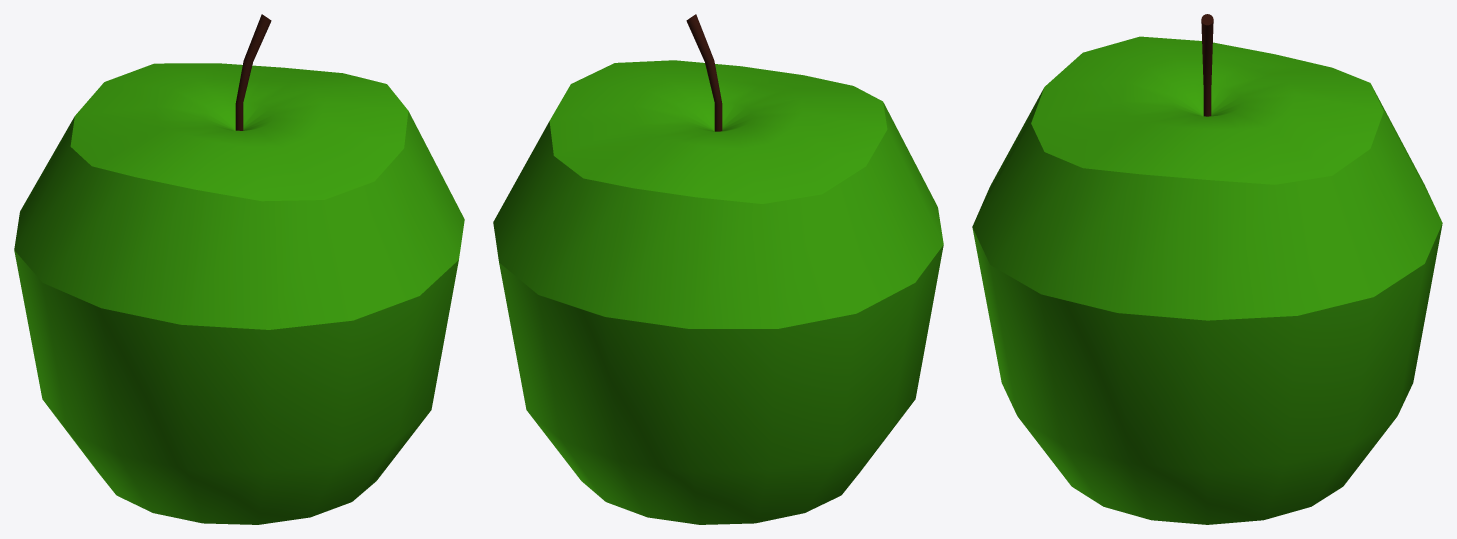
Rendered from apple.FBX.
The picture shows the model from 3 angles, left to right: view 1: azimuth 30°, elevation 25°; view 2: azimuth 150°, elevation 25°; view 3: azimuth 270°, elevation 25°; orthographic projection. The views are drawn at different scales.
Visible parts, largest first — view 1: Line001; view 2: Line001; view 3: Line001.
Part boxes in pixels (left/top/right/bottom): Line001: left=14, top=14, right=464, bottom=524; Line001: left=493, top=14, right=943, bottom=524; Line001: left=972, top=14, right=1442, bottom=524.
Size of the model in its own units: 24.73 by 26.73 by 24.73.
